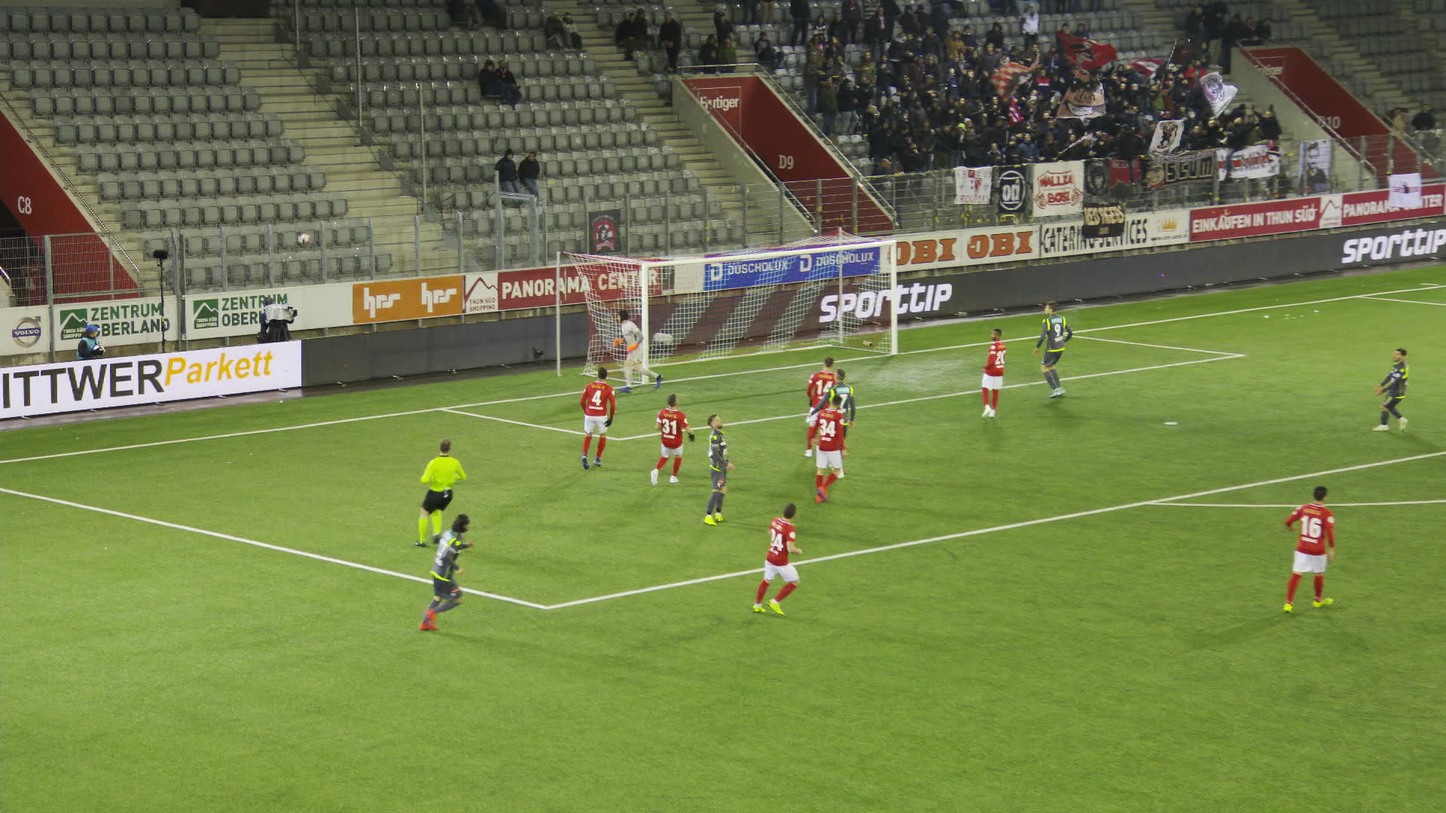ball: (297, 231, 311, 243)
player: (1276, 486, 1334, 614), (414, 511, 466, 630), (747, 502, 798, 613), (609, 309, 664, 393), (1032, 302, 1078, 399), (575, 368, 618, 470), (697, 414, 735, 525), (813, 370, 853, 474), (809, 395, 847, 504), (650, 394, 695, 484), (804, 354, 837, 456), (1365, 347, 1405, 431), (975, 327, 1007, 419)
referee: (419, 437, 468, 552)
